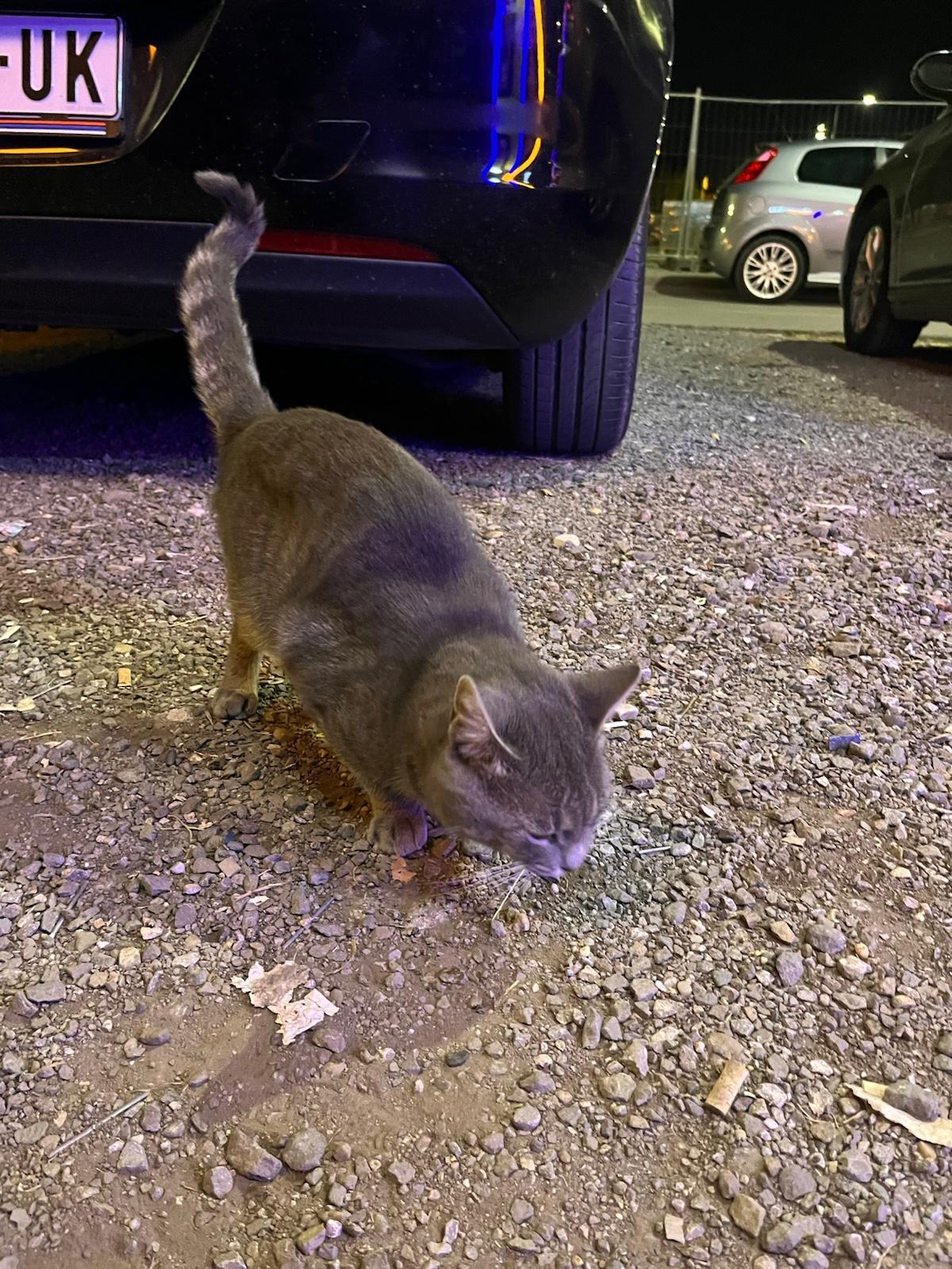macka: (186, 168, 635, 881)
